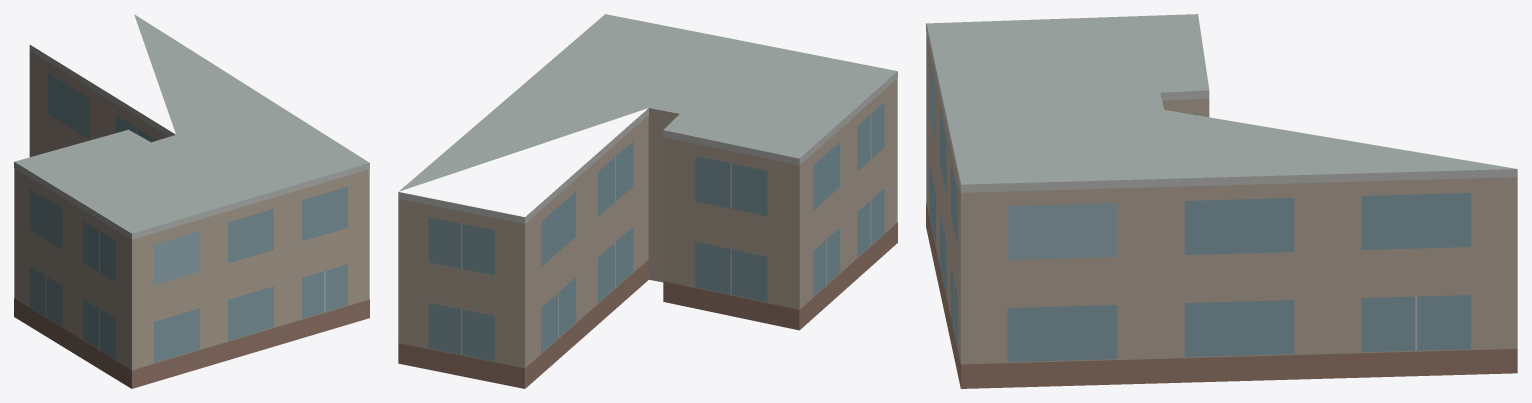
The model's file is survey-upis-32759491.glb.
3 renders of one model, left to right at view 1: azimuth 30°, elevation 25°; view 2: azimuth 150°, elevation 25°; view 3: azimuth 270°, elevation 25°, orthographic. The views are drawn at different scales.
Parts seen in each view (by area): view 1: survey-upis-32759491.tmp; view 2: survey-upis-32759491.tmp; view 3: survey-upis-32759491.tmp.
Boxes of the visible parts, <box> form: survey-upis-32759491.tmp: <box>14,14,369,388</box>; survey-upis-32759491.tmp: <box>398,14,897,388</box>; survey-upis-32759491.tmp: <box>926,14,1517,388</box>.
Size of the model in its own units: 10.94 by 6.1 by 16.02.
